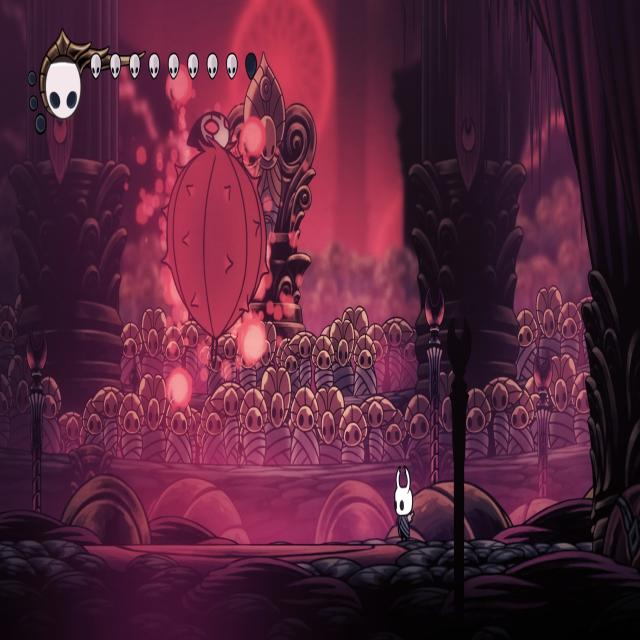Player: (391, 459, 417, 543)
Pufferfish: (160, 101, 272, 370)
Tiny Fireballs: (238, 318, 266, 367), (166, 64, 195, 109), (239, 116, 266, 162), (166, 367, 192, 409), (166, 269, 182, 307)
